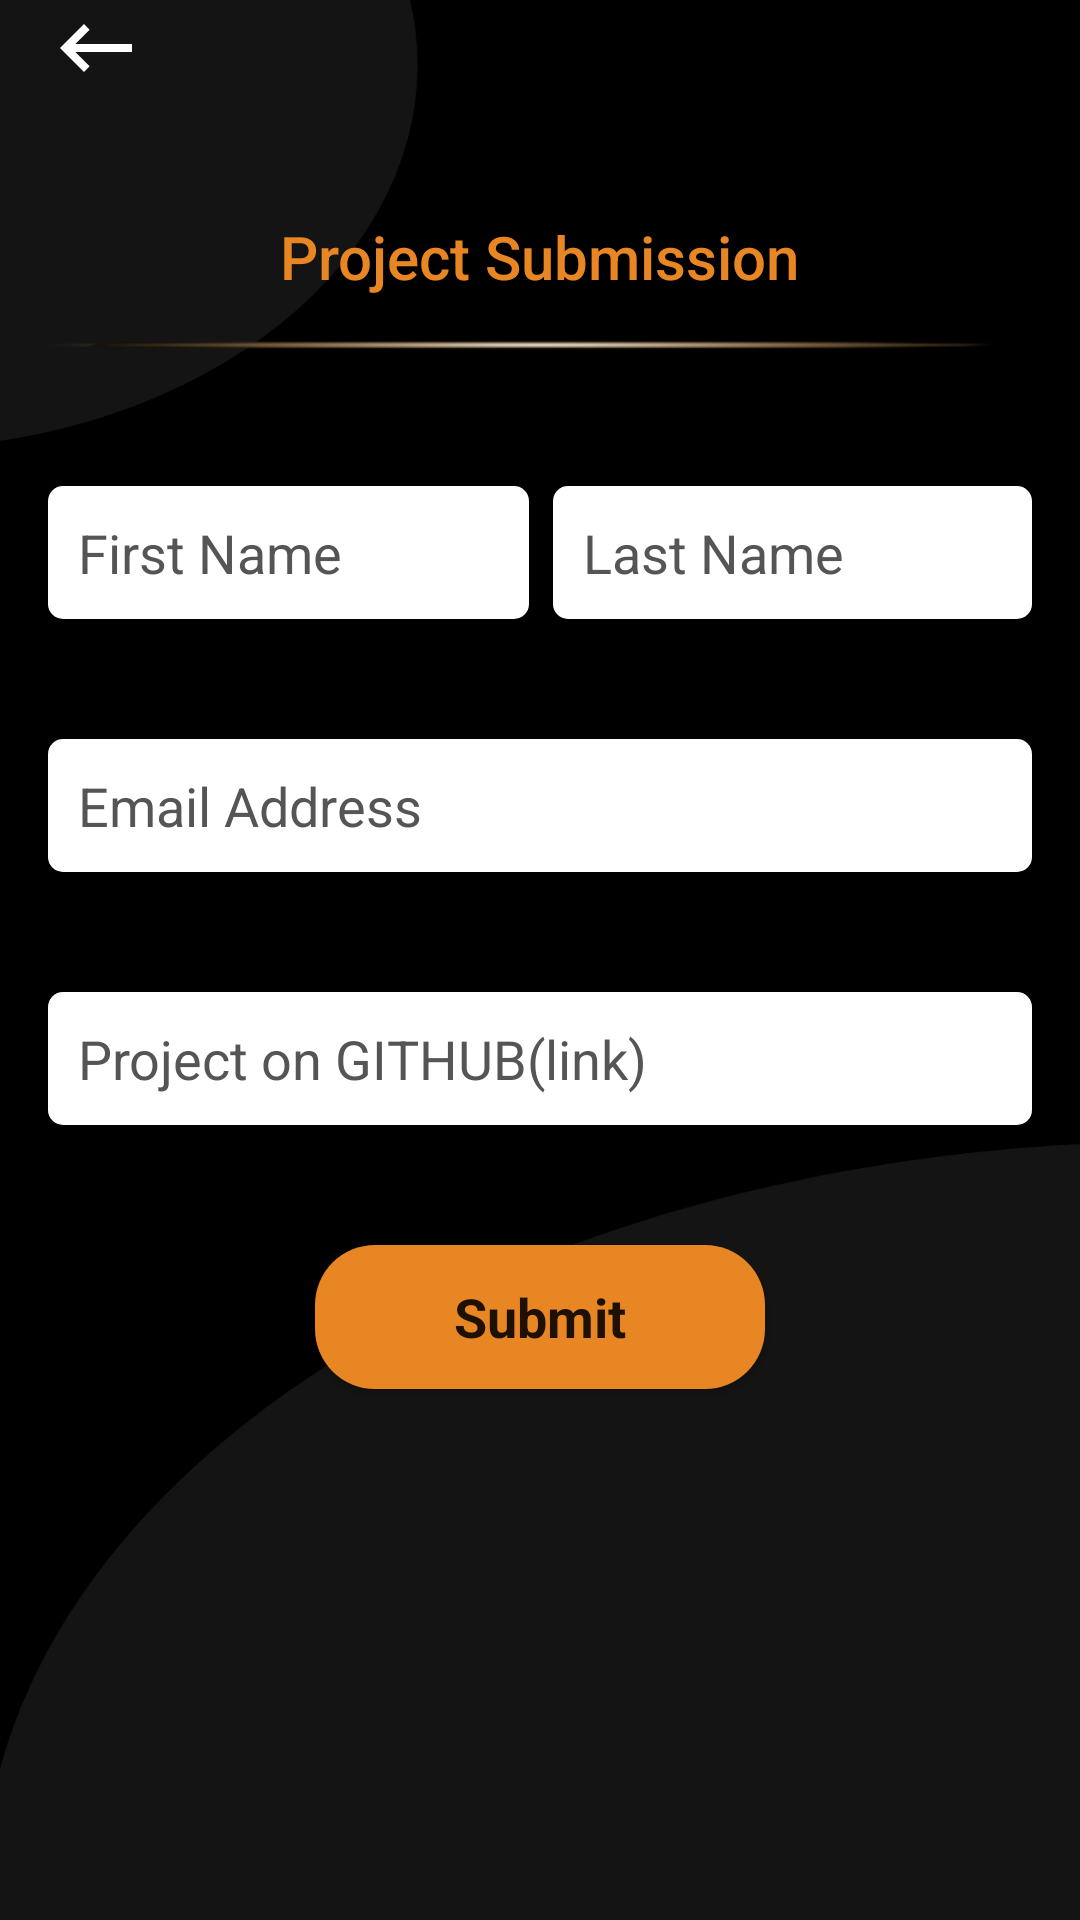

Where to tap for icons on this 1080 × 1920 app screen, as [x,y]:
keyboard backspace: [96,48]
